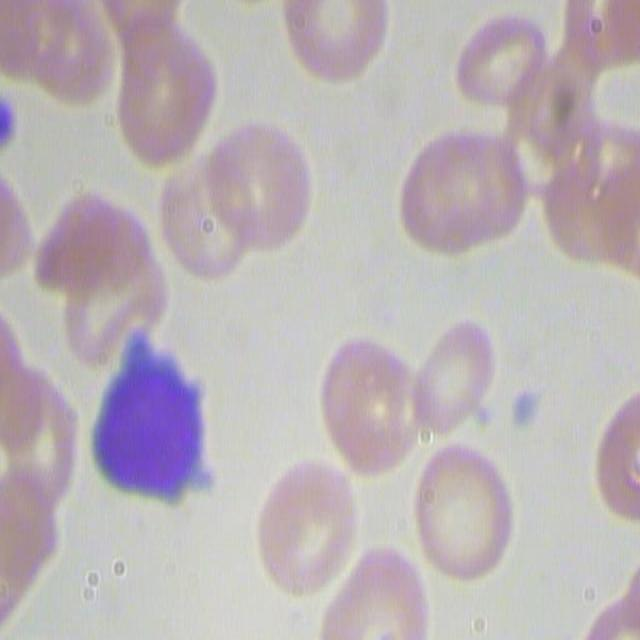RBC: (43, 184, 167, 371), (105, 9, 219, 175), (393, 131, 528, 261), (407, 437, 515, 589), (248, 456, 358, 600), (536, 119, 637, 274), (313, 333, 417, 483), (209, 123, 314, 255), (2, 2, 126, 113), (500, 44, 596, 183), (153, 167, 252, 290), (315, 545, 433, 638), (406, 314, 498, 432), (453, 7, 549, 117), (0, 372, 79, 503), (280, 0, 390, 82), (592, 386, 640, 526), (7, 505, 58, 629), (563, 0, 640, 70), (574, 572, 640, 640)
WBC: (94, 336, 221, 511)
platelets: (0, 84, 17, 170)
